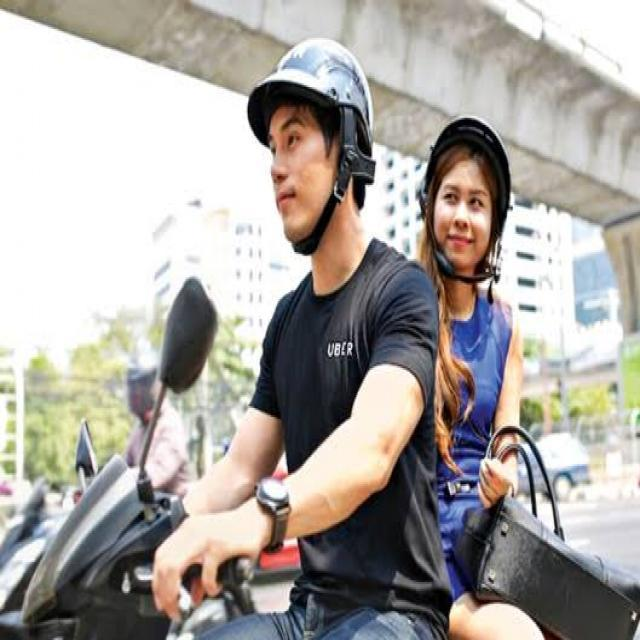Helmet: (235, 33, 392, 263), (410, 109, 516, 291)
